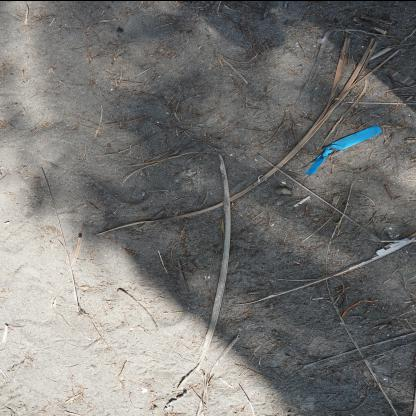plastik: (304, 124, 382, 174)
